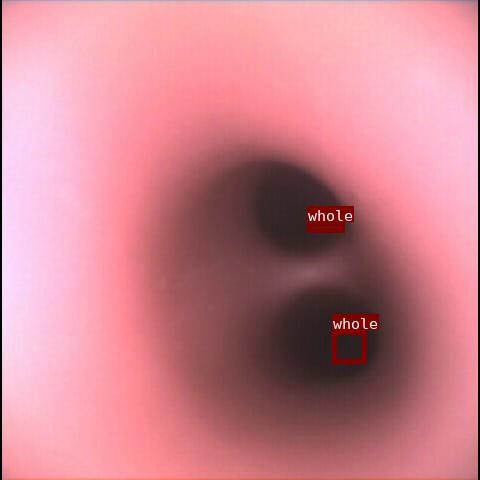whole: (332, 330, 366, 363), (307, 222, 344, 232)
